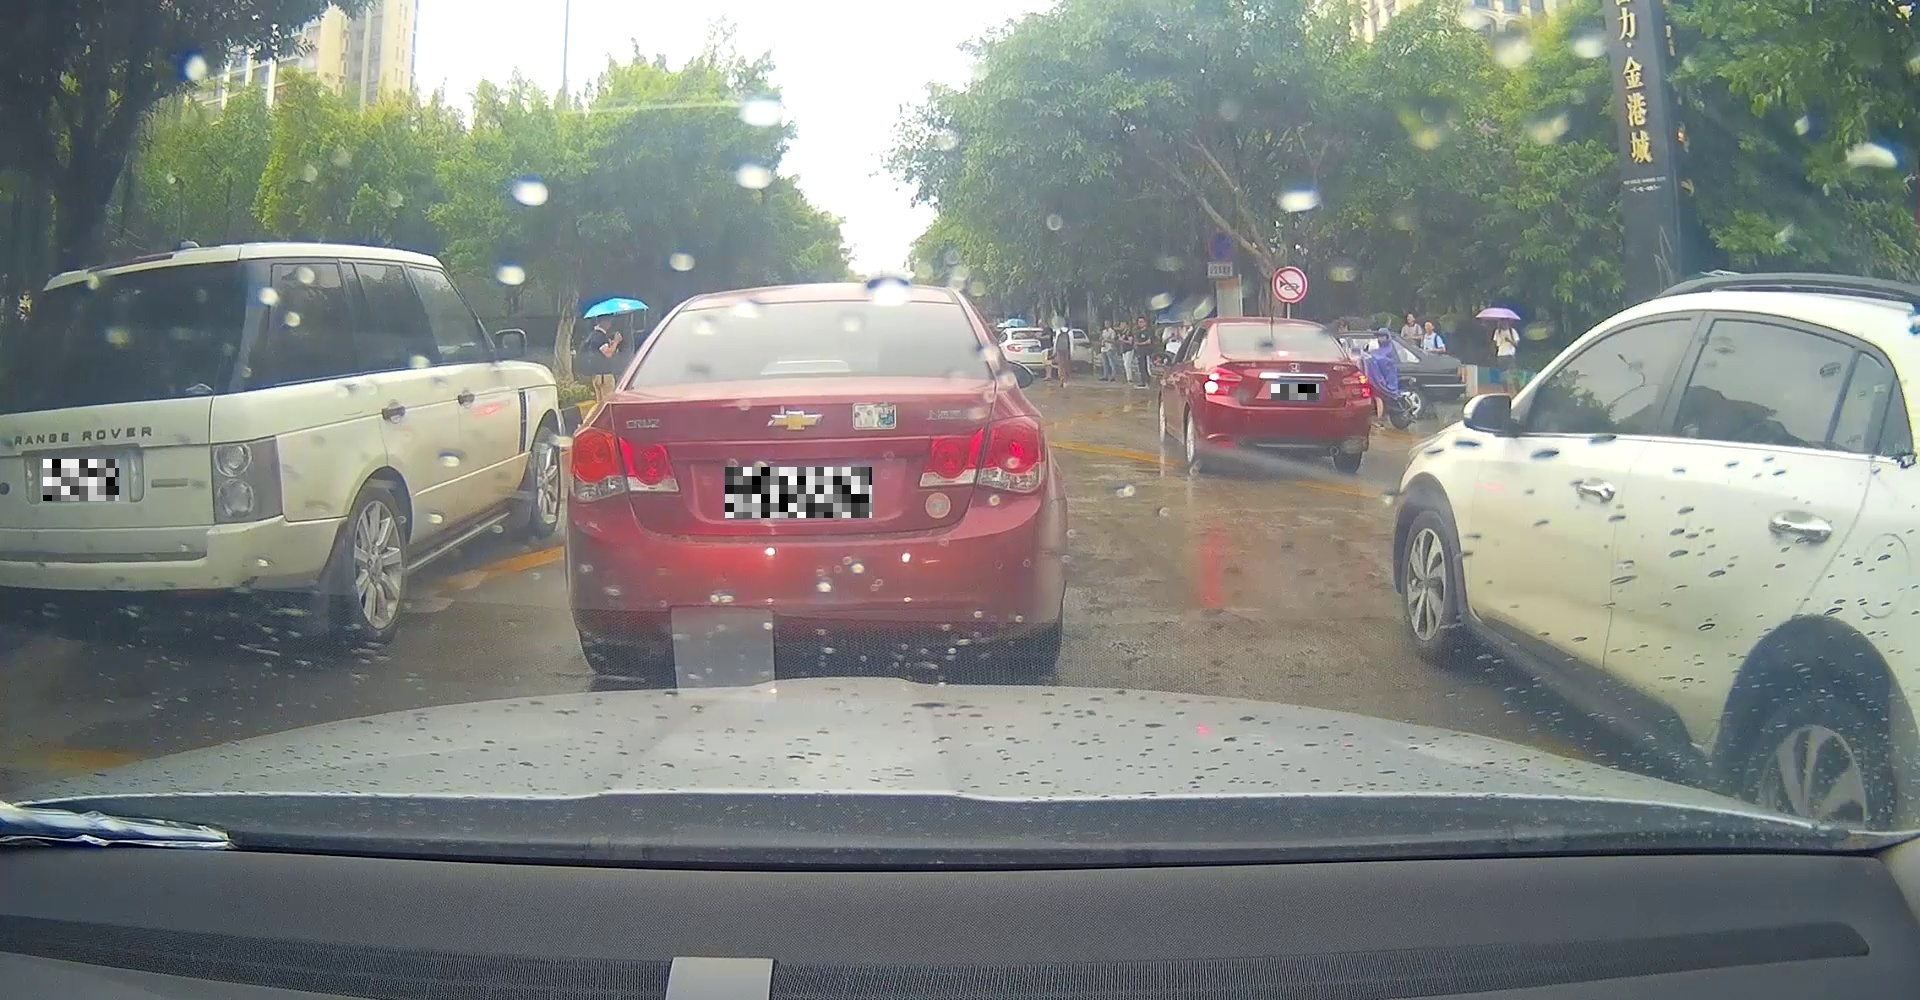L_light: (568, 426, 681, 504), (1205, 367, 1242, 396)
R_light: (919, 414, 1050, 492), (1342, 371, 1371, 398)
T_light: (761, 358, 850, 376), (1269, 349, 1294, 357)
day-brake: (1203, 317, 1375, 475)
day-no: (563, 282, 1065, 675)
plate_1: (43, 459, 119, 501)
plate_2: (725, 467, 872, 518)
plate_3: (1271, 385, 1319, 400)
